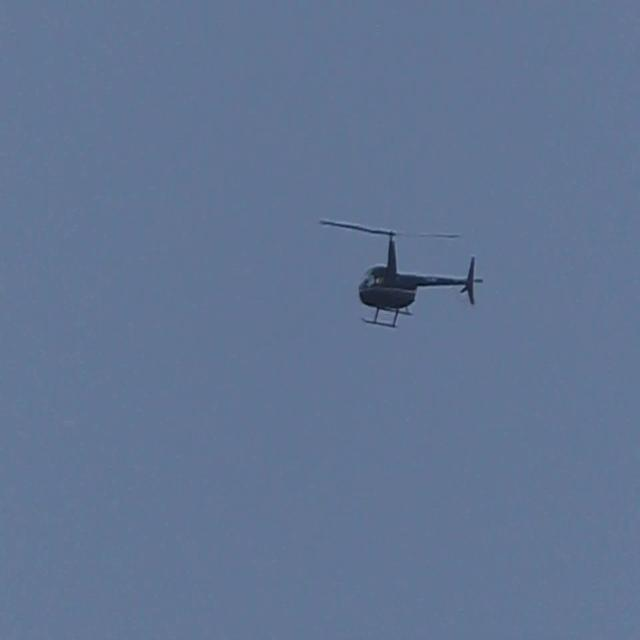CIV_HELO: (358, 229, 483, 330)
